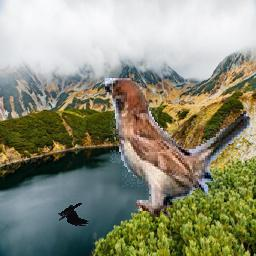Crow: (57, 202, 89, 226)
Sparrow: (105, 77, 251, 218)
